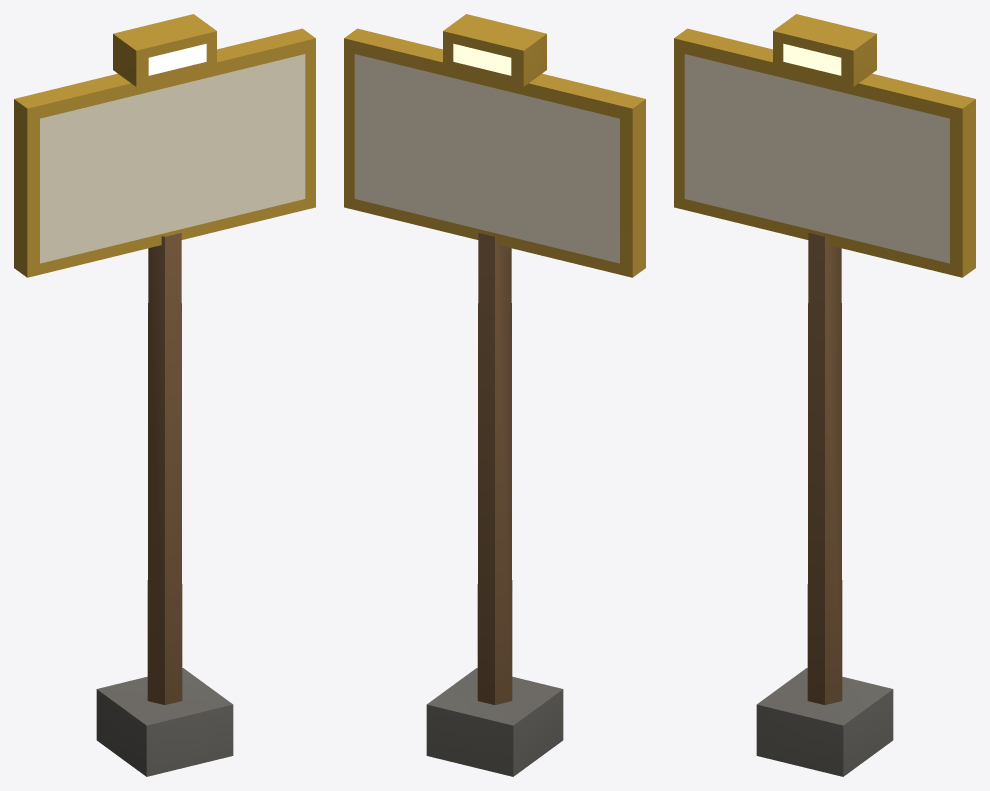
Rendered from taxi_stop_sign_low.glb.
3 views of the same model, side by side, from view 1: azimuth 30°, elevation 25°; view 2: azimuth 150°, elevation 25°; view 3: azimuth 330°, elevation 25° (orthographic).
Parts seen in each view (by area): view 1: taxi_stop_sign, plate; view 2: taxi_stop_sign, plate; view 3: taxi_stop_sign, plate.
Boxes of the visible parts, left/top/right/bottom form: taxi_stop_sign: left=14, top=14, right=315, bottom=776; plate: left=40, top=54, right=305, bottom=263; taxi_stop_sign: left=344, top=14, right=645, bottom=776; plate: left=354, top=54, right=619, bottom=263; taxi_stop_sign: left=674, top=14, right=975, bottom=776; plate: left=684, top=54, right=949, bottom=263.
Size of the model in its own units: 1 by 2.37 by 0.3.
